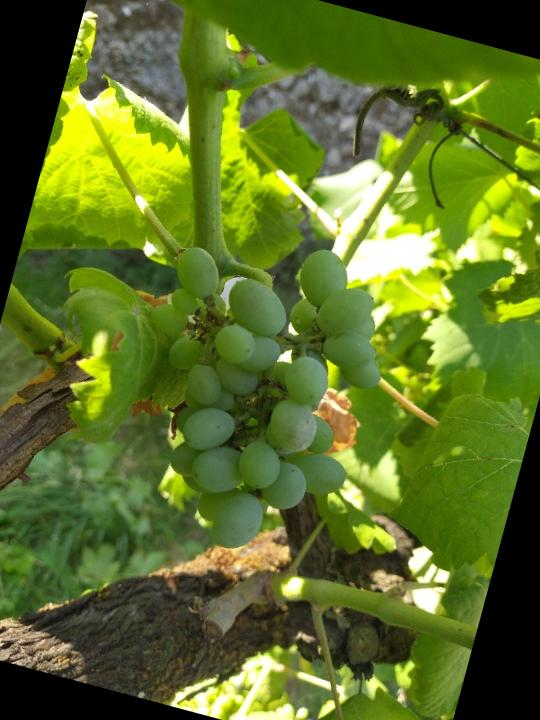grape: (91, 208, 405, 578)
